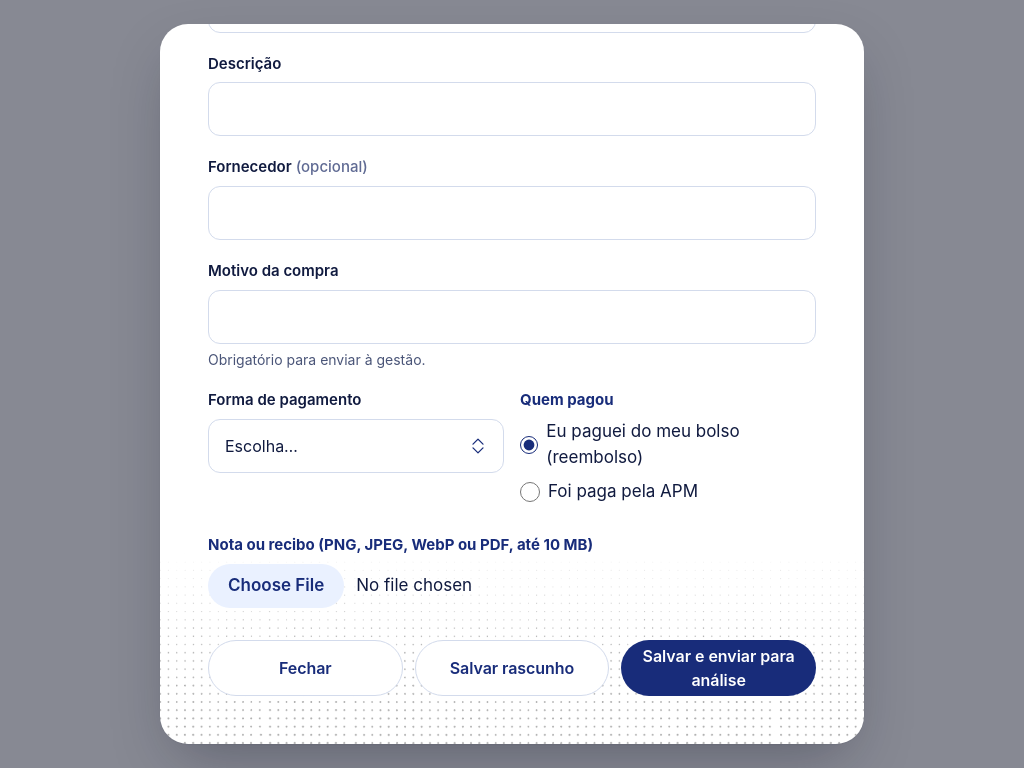
Test case: ExpenseForm › valor, descricao e categoria: valida no cliente
(page scrolled)
Click the button "Salvar rascunho". click: x=512, y=668
box: [415,640,609,696]
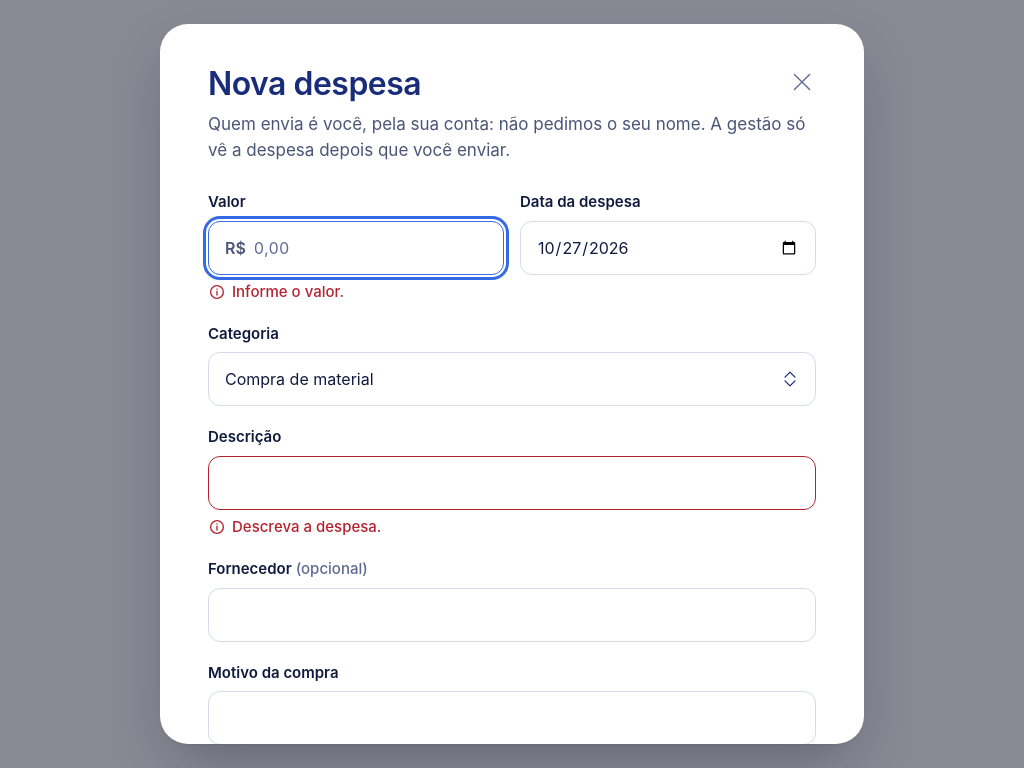
Check: the text "Informe o valor." is shown, box [208,282,344,301]
Check: the text "Descreva a despesa." is shown, box [208,517,381,536]
